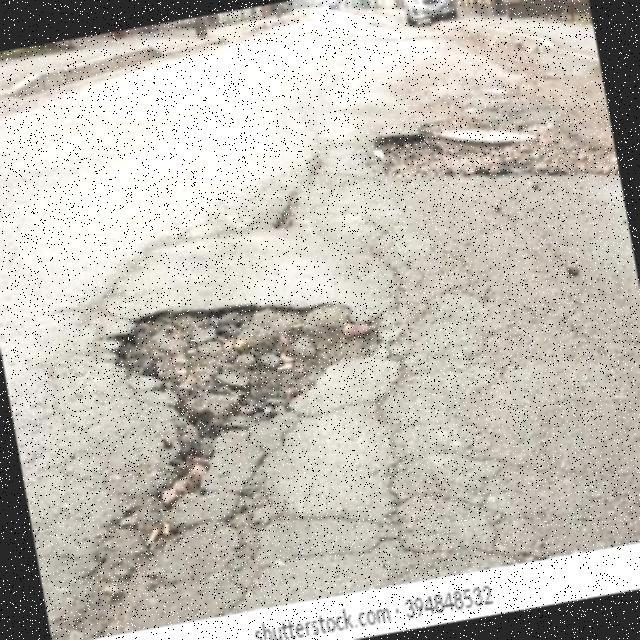Pothole: (109, 304, 382, 508), (373, 128, 619, 182)
